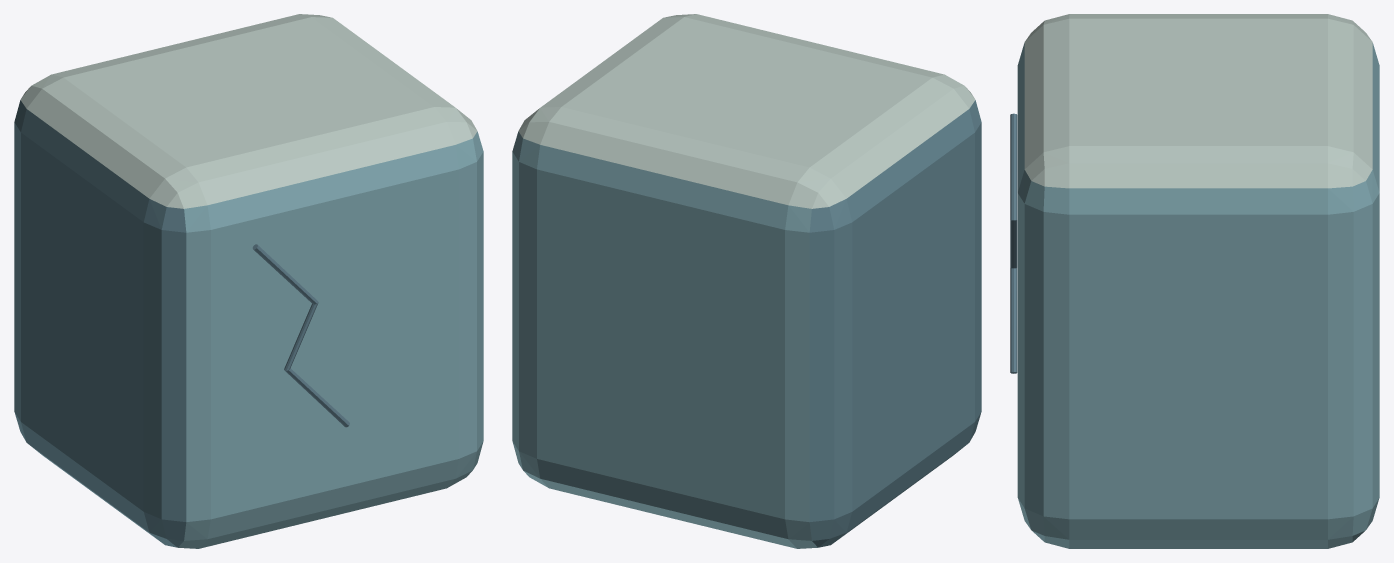
Rendered from ICE_BLOCK.hi.glb.
3 renders of one model, left to right at view 1: azimuth 30°, elevation 25°; view 2: azimuth 150°, elevation 25°; view 3: azimuth 270°, elevation 25°, orthographic. The views are drawn at different scales.
Visible parts, largest first — view 1: Body_Mesh; view 2: Body_Mesh; view 3: Body_Mesh.
Boxes of the visible parts, x1,y1,x2,y2 form: Body_Mesh: (14, 14, 483, 548); Body_Mesh: (512, 14, 981, 548); Body_Mesh: (1010, 14, 1379, 548).
Bounding box in the file's own units: 0.94 × 1.02 × 0.857.
